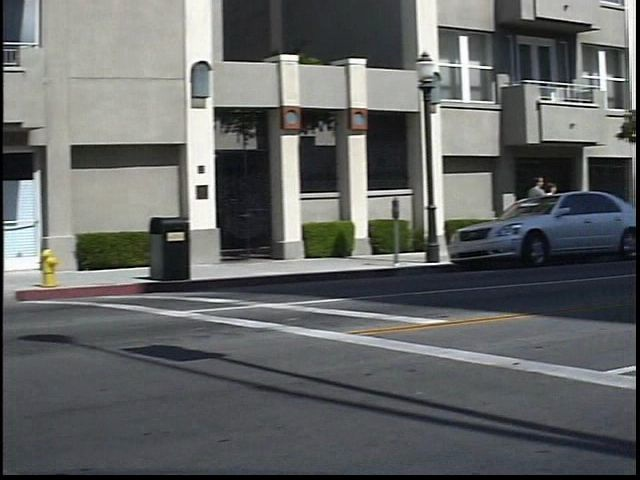person: (535, 171, 560, 246), (555, 179, 575, 240)
